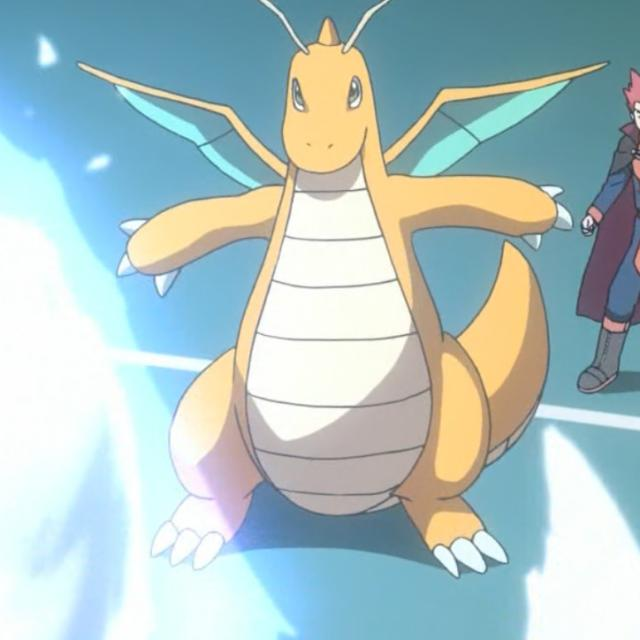Dragonite: (207, 29, 493, 562)
